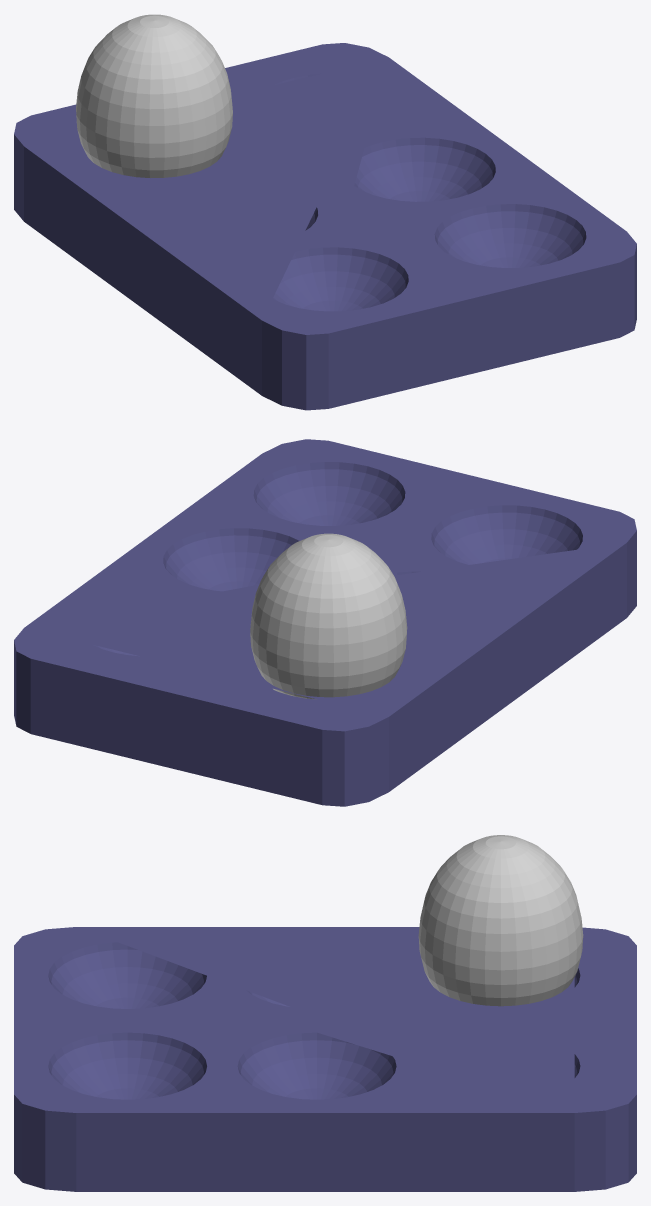
Rendered from muna_GJ22.fbx.
The picture shows the model from 3 angles, top to bottom: view 1: azimuth 30°, elevation 25°; view 2: azimuth 150°, elevation 25°; view 3: azimuth 270°, elevation 25°; orthographic projection. The views are drawn at different scales.
Visible parts, largest first — view 1: Laatikko, Pirmamuna; view 2: Laatikko, Pirmamuna; view 3: Laatikko, Pirmamuna.
Part boxes in pixels (x1,y1,x2,y2): Laatikko: (14, 43, 636, 410); Pirmamuna: (76, 14, 232, 177); Laatikko: (14, 439, 636, 806); Pirmamuna: (250, 533, 407, 699); Laatikko: (14, 927, 636, 1191); Pirmamuna: (418, 835, 583, 1006).
Bounding box in the file's own units: 50.63 × 26.99 × 71.58.
